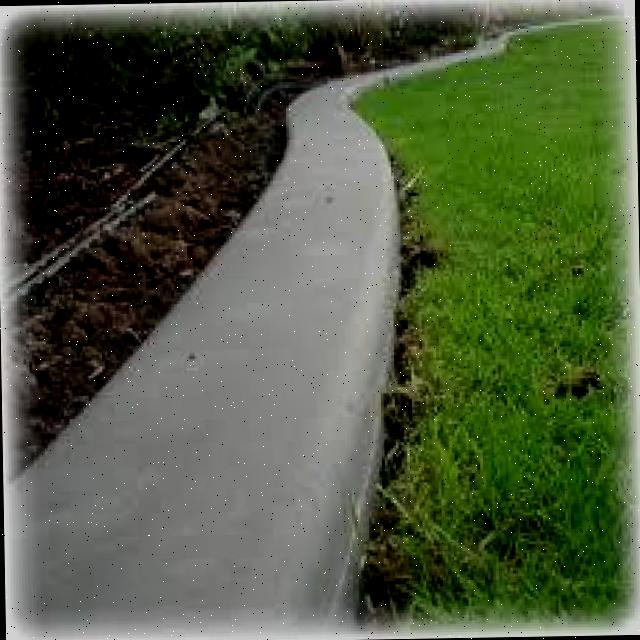curb: (121, 369, 418, 640), (272, 94, 417, 434)
